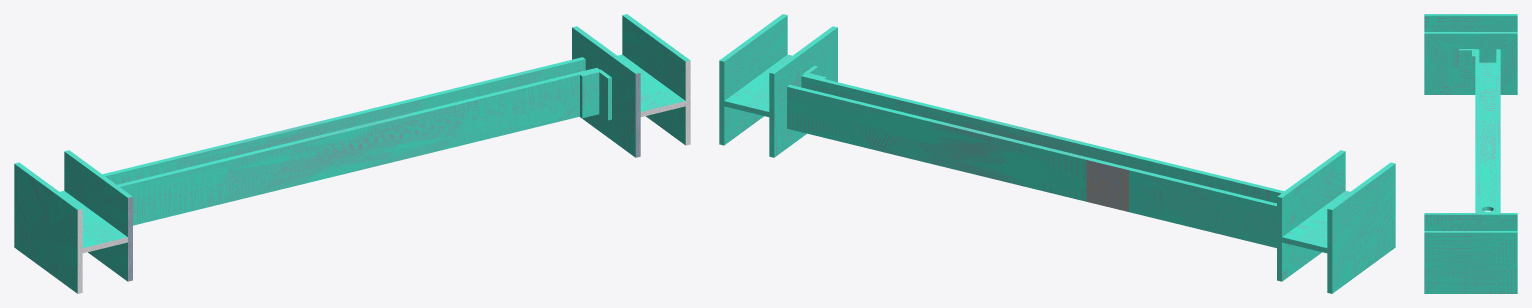
The model's file is Beam2.obj.
The picture shows the model from 3 angles, left to right: view 1: azimuth 30°, elevation 25°; view 2: azimuth 150°, elevation 25°; view 3: azimuth 270°, elevation 25°; orthographic projection. The views are drawn at different scales.
Parts seen in each view (by area): view 1: Mesh1 Model; view 2: Mesh1 Model; view 3: Mesh1 Model.
Boxes of the visible parts, <box> form: Mesh1 Model: <box>14,14,690,293</box>; Mesh1 Model: <box>719,14,1395,293</box>; Mesh1 Model: <box>1424,14,1517,293</box>.
Size of the model in its own units: 1224 by 160 by 220.
